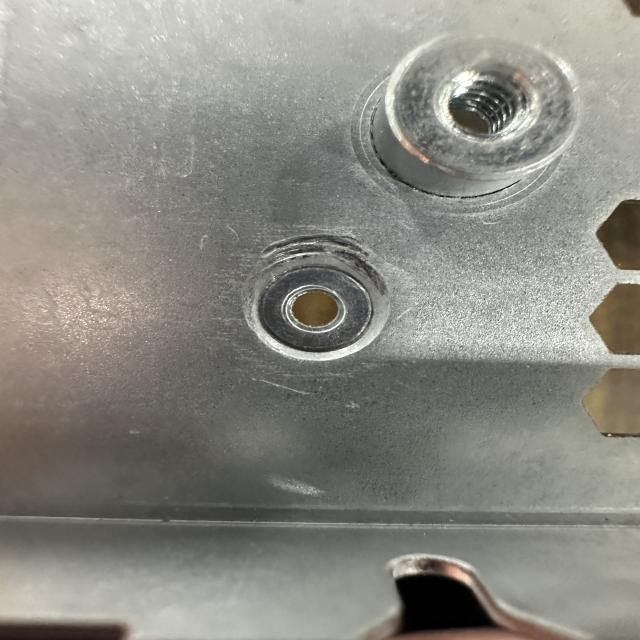Missing screw: (244, 255, 396, 374)
